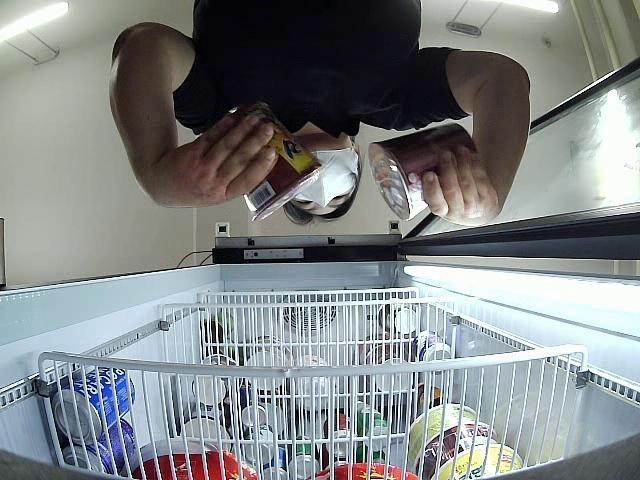06_nuguri_S: (204, 100, 321, 221), (370, 122, 476, 226)
